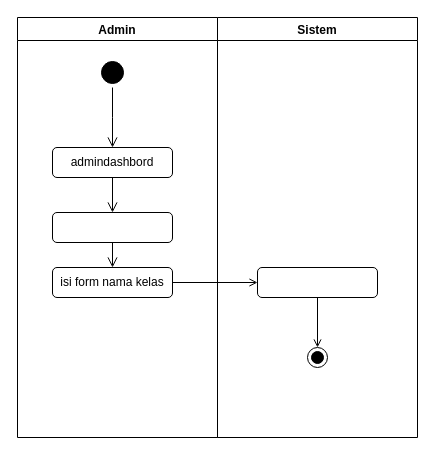
This 435x455 diagram has some shape labels left out. Each missing label, with the box of its shape:
berhasil tambah kelas: (256, 266, 378, 298)
pilih menu kelas: (52, 212, 172, 242)
